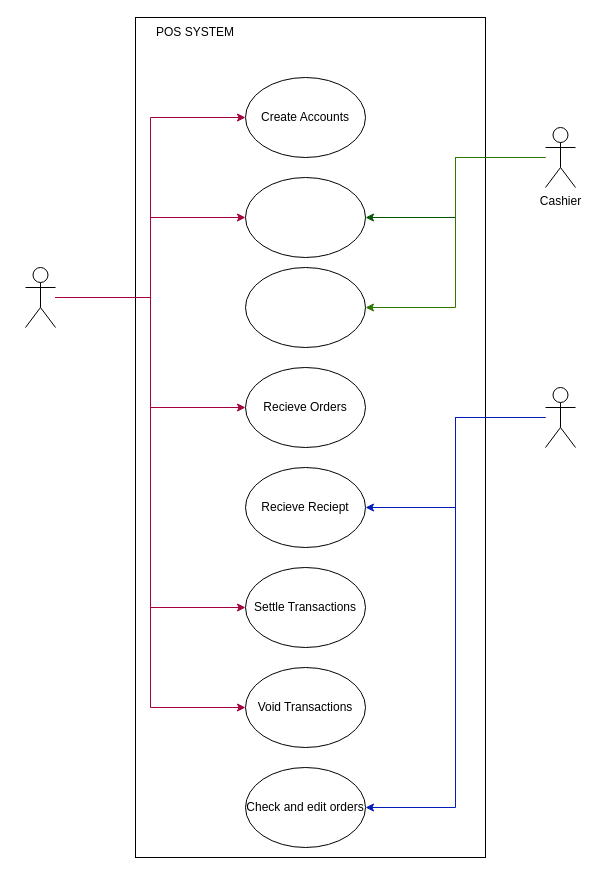
This 604x875 diagram has some shape labels left out. Each missing label, with the centre of its shape:
Customer: pixel 560 417
Input Orders: pixel 305 307
Log In: pixel 305 217
Manager: pixel 40 297
